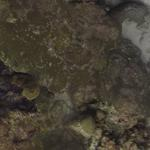alive: (8, 21, 144, 141)
